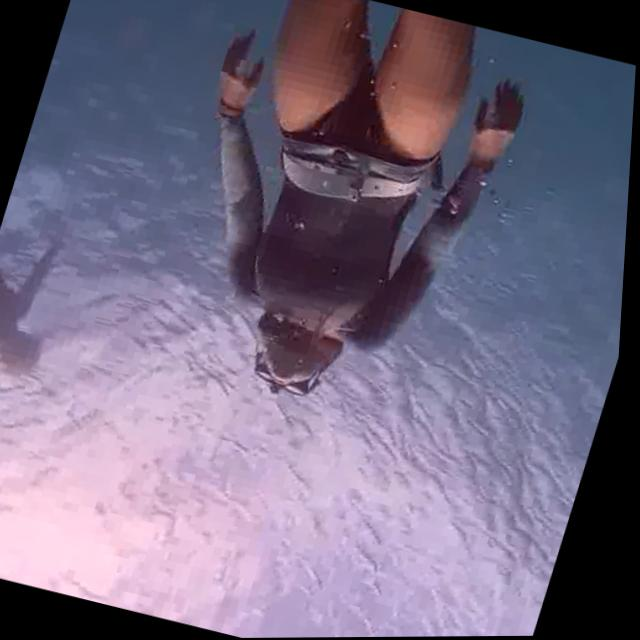human: (120, 0, 560, 444), (0, 91, 130, 439)
